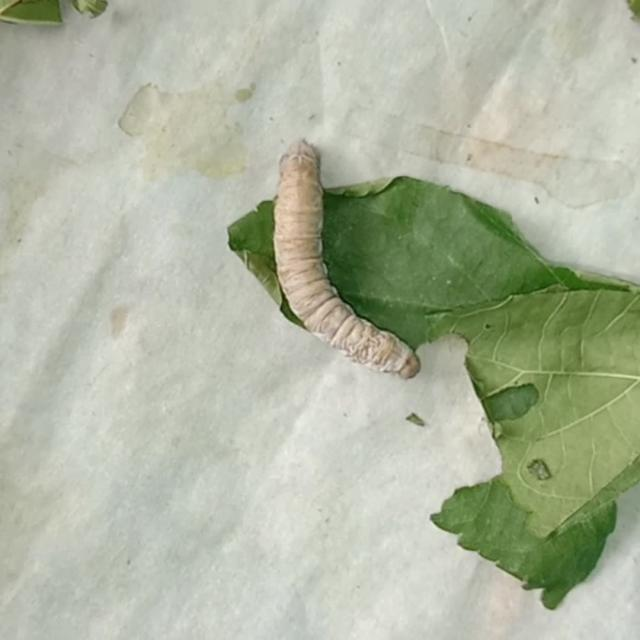Grasserie: (236, 118, 439, 394)
